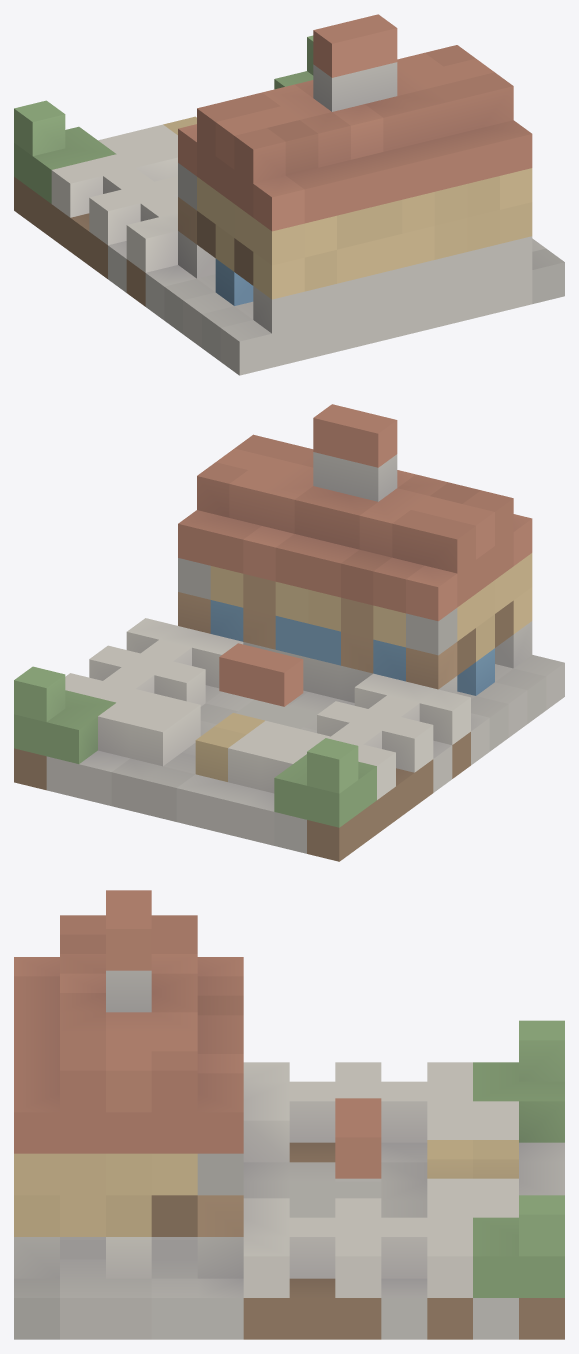
File: market_small.l3.lite.glb
3 views of the same model, one above another, from view 1: azimuth 30°, elevation 25°; view 2: azimuth 150°, elevation 25°; view 3: azimuth 270°, elevation 25° (orthographic). The views are drawn at different scales.
Visible parts, largest first — view 1: market_small; view 2: market_small; view 3: market_small.
Part boxes in pixels (box(x1,y1,x2,y2)): market_small: box(14, 14, 564, 375); market_small: box(14, 404, 564, 861); market_small: box(14, 890, 564, 1339).
Bounding box in the file's own units: 5 × 4 × 6.
